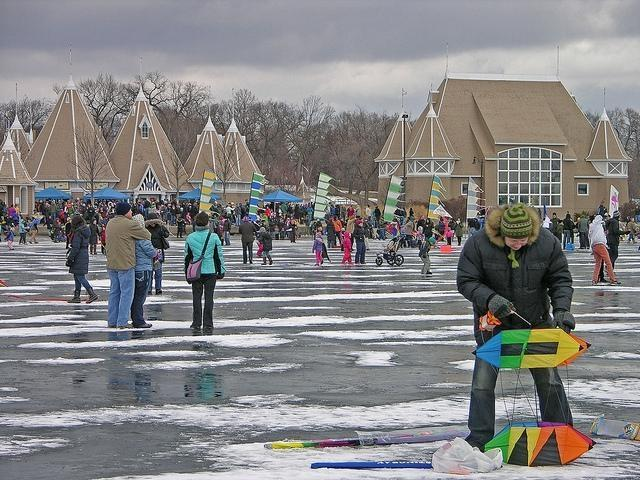bicycle: (376, 250, 404, 266)
